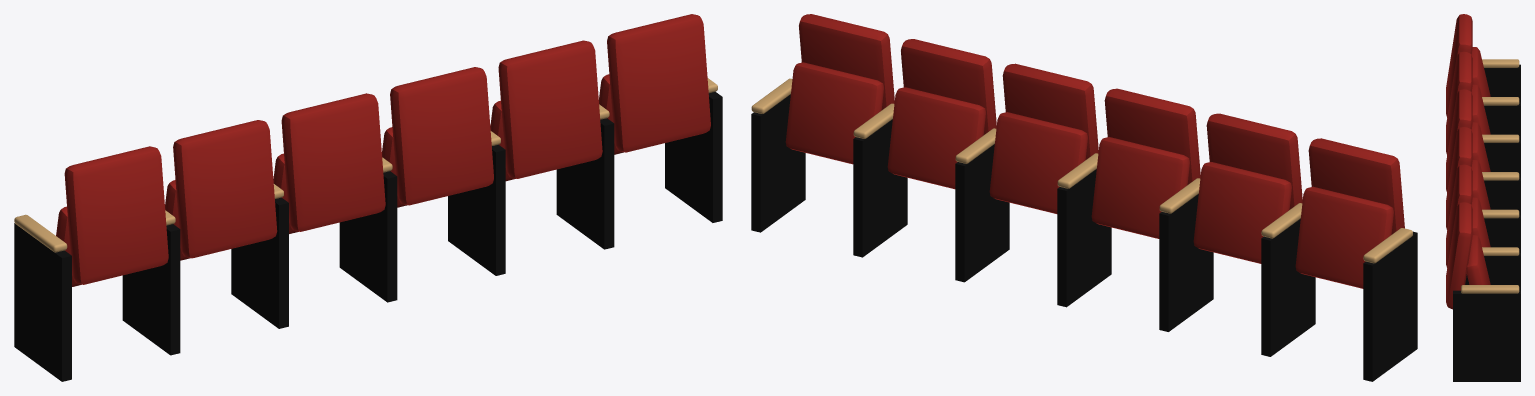
The model's file is venue.seat.row_6.glb.
3 renders of one model, left to right at view 1: azimuth 30°, elevation 25°; view 2: azimuth 150°, elevation 25°; view 3: azimuth 270°, elevation 25°, orthographic. The views are drawn at different scales.
Parts seen in each view (by area): view 1: main__fabric_red, main__plastic_black, main__glulam; view 2: main__fabric_red, main__plastic_black, main__glulam; view 3: main__plastic_black, main__fabric_red, main__glulam.
Part boxes in pixels (bbox=[...]): main__fabric_red: bbox=[56, 14, 710, 286]; main__plastic_black: bbox=[14, 91, 722, 381]; main__glulam: bbox=[14, 78, 717, 252]; main__fabric_red: bbox=[785, 14, 1404, 288]; main__plastic_black: bbox=[751, 94, 1417, 381]; main__glulam: bbox=[751, 78, 1412, 263]; main__plastic_black: bbox=[1453, 64, 1520, 381]; main__fabric_red: bbox=[1446, 14, 1490, 309]; main__glulam: bbox=[1461, 59, 1519, 293].
Bounding box in the file's own units: 3.37 × 0.9937 × 0.4622.
